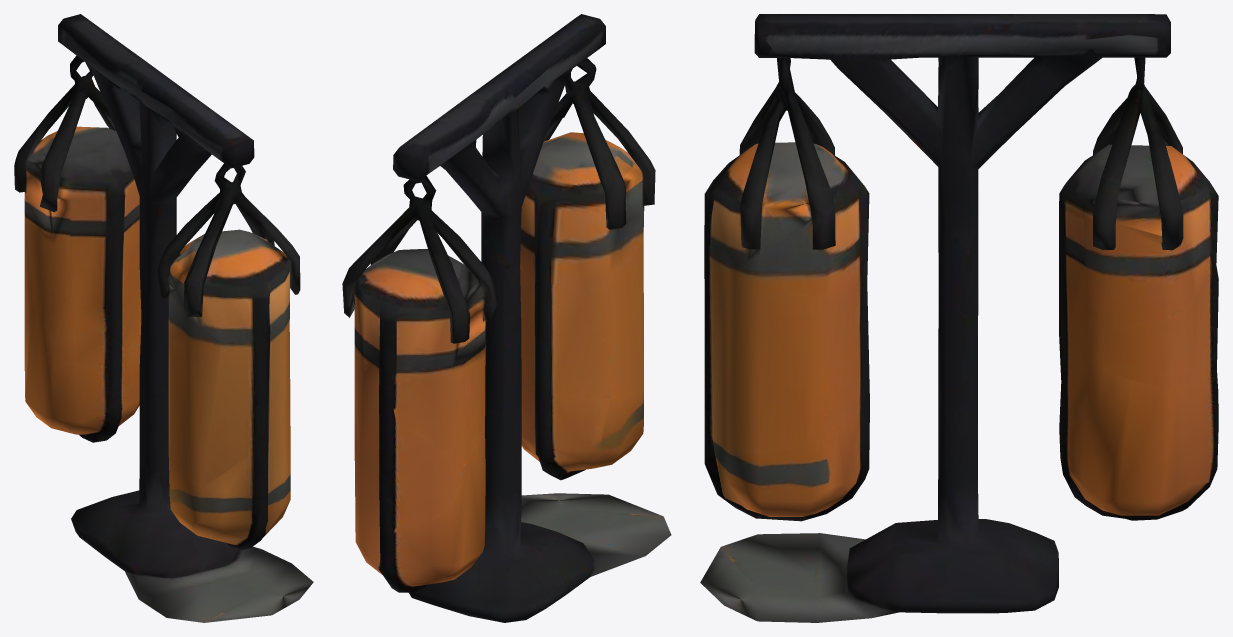
The model's file is punching-bag.glb.
3 renders of one model, left to right at view 1: azimuth 30°, elevation 25°; view 2: azimuth 150°, elevation 25°; view 3: azimuth 270°, elevation 25°, orthographic. The views are drawn at different scales.
Visible parts, largest first — view 1: tripo_node_ae32f665-2efe-482a-89bd-21b8b8129110; view 2: tripo_node_ae32f665-2efe-482a-89bd-21b8b8129110; view 3: tripo_node_ae32f665-2efe-482a-89bd-21b8b8129110.
Part boxes in pixels (x1=…): tripo_node_ae32f665-2efe-482a-89bd-21b8b8129110: x1=14, y1=14, x2=313, y2=622; tripo_node_ae32f665-2efe-482a-89bd-21b8b8129110: x1=342, y1=14, x2=671, y2=622; tripo_node_ae32f665-2efe-482a-89bd-21b8b8129110: x1=700, y1=14, x2=1218, y2=622.
Size of the model in its own units: 0.3434 by 0.9999 by 0.8376.
Materials: 1 (1 with a texture image).
